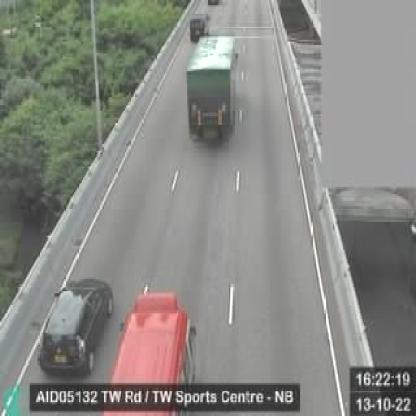Car: (38, 278, 112, 380), (188, 12, 209, 44)
Minibus: (104, 291, 198, 416)
Truck: (186, 35, 238, 145)
